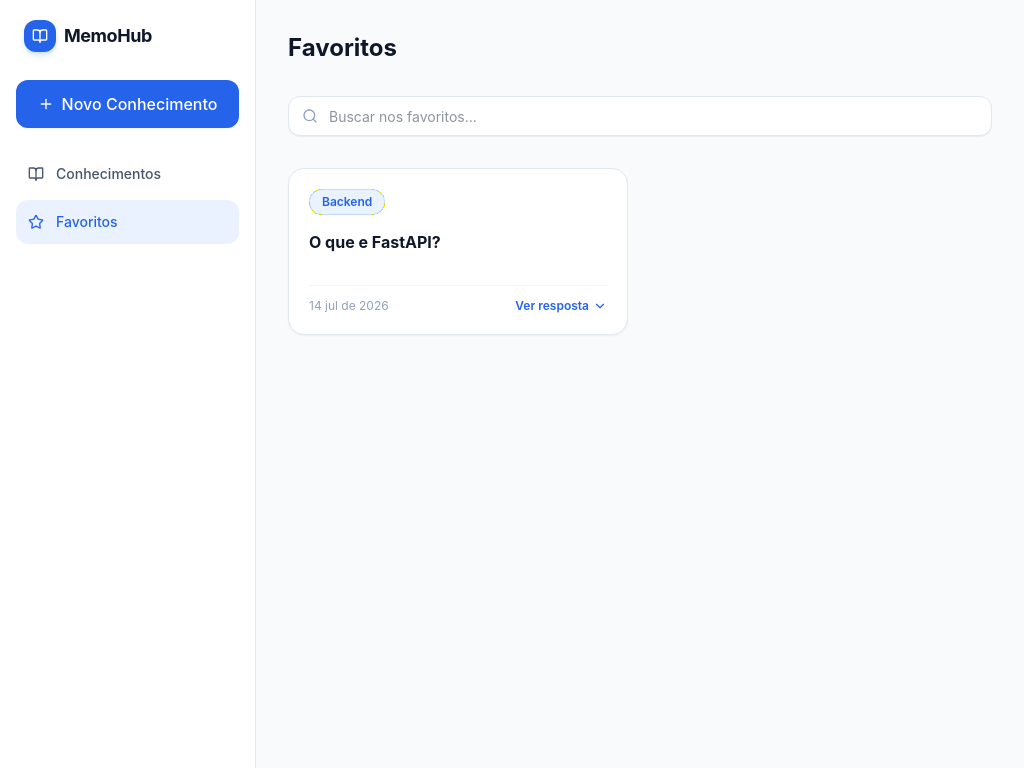
Scenario: FavoritesListView.vue (Integration) › deve injetar o registro criado na lista de favoritos apenas se for marcado como favorito na modal
Click the button "Novo Conhecimento": x=128, y=104 [16, 80, 239, 128]
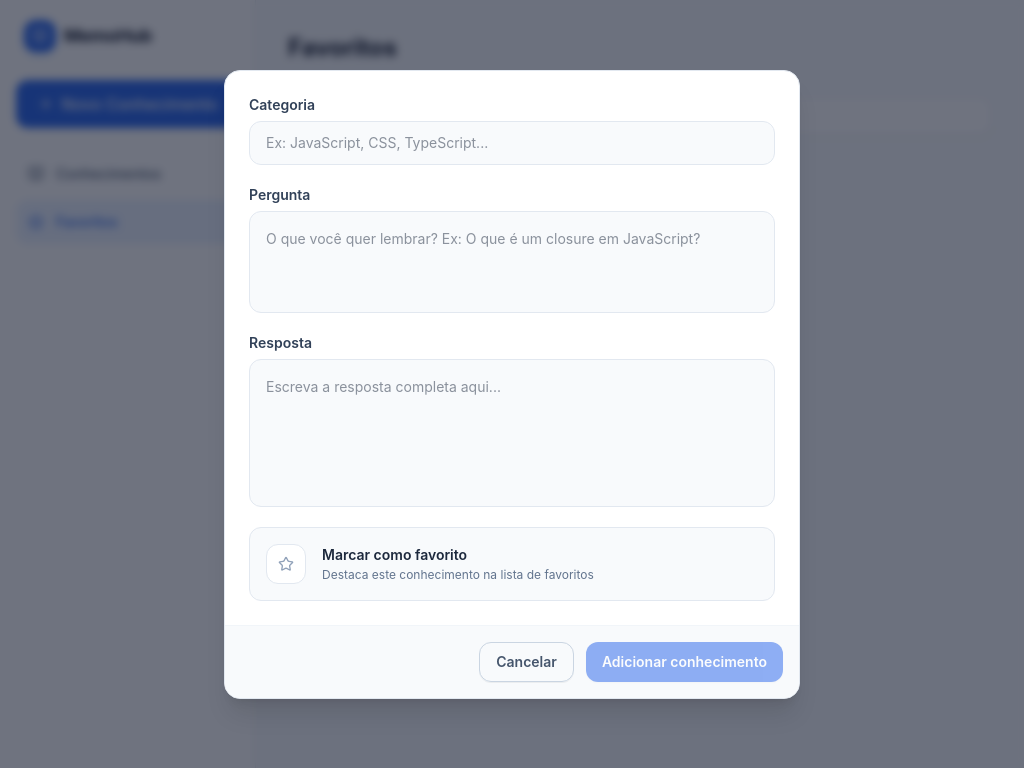
In the field with placeholder "Ex: JavaScript, CSS, TypeScript...": x=512, y=142 [249, 120, 775, 164], type "Database"
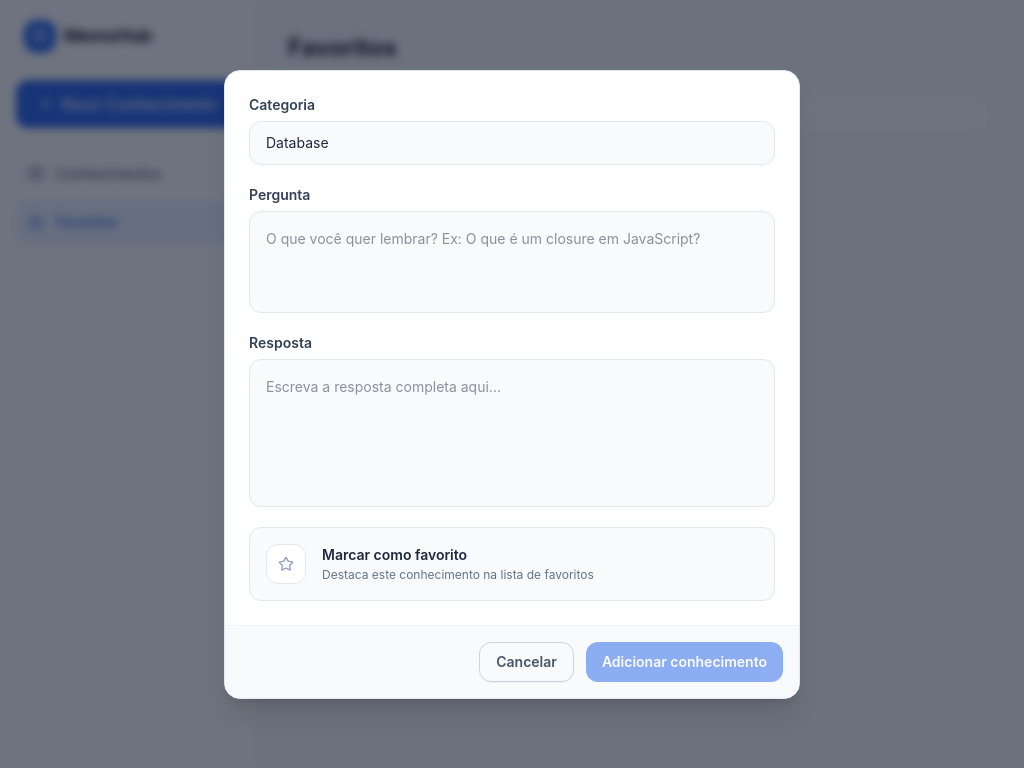
Replace the text in the 1st text box with "O que e SQLModel?": x=512, y=262 [249, 210, 775, 313]
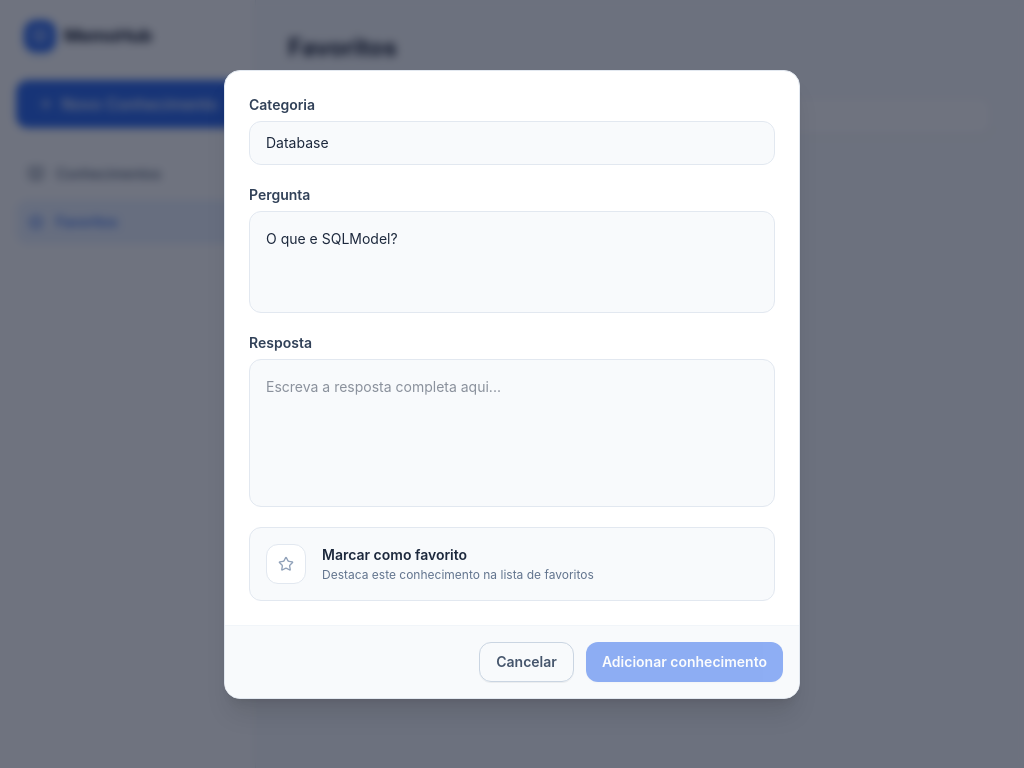
In the text box with placeholder "Escreva a resposta completa aqui...": x=512, y=433 [249, 359, 775, 507], type "Uma biblioteca ORM assincrona."
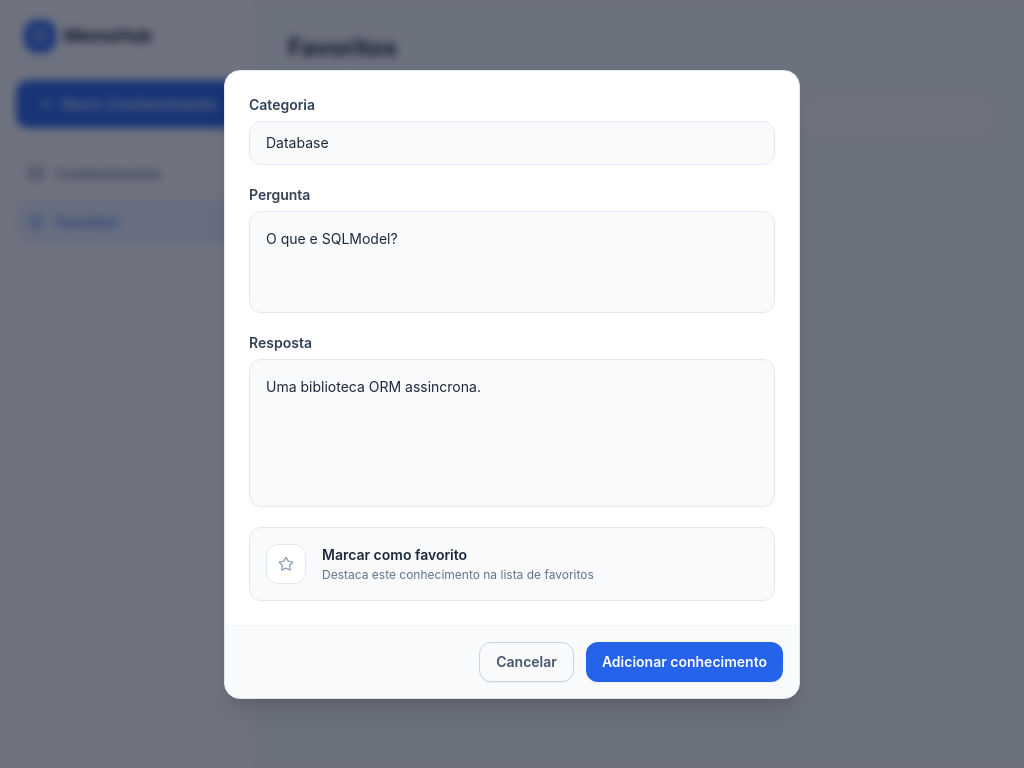
Click the element with class "select-none" that starts with "Marcar como favorito": x=512, y=564 [249, 526, 775, 600]
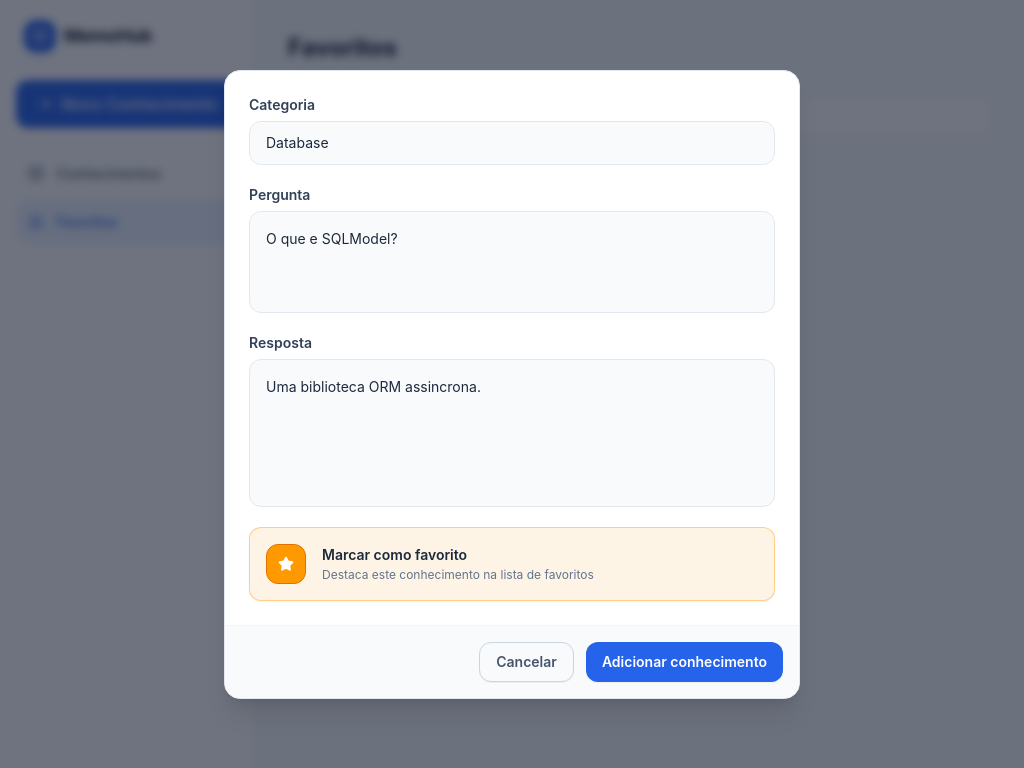
Click the button "Adicionar conhecimento": x=684, y=662 [586, 642, 783, 682]
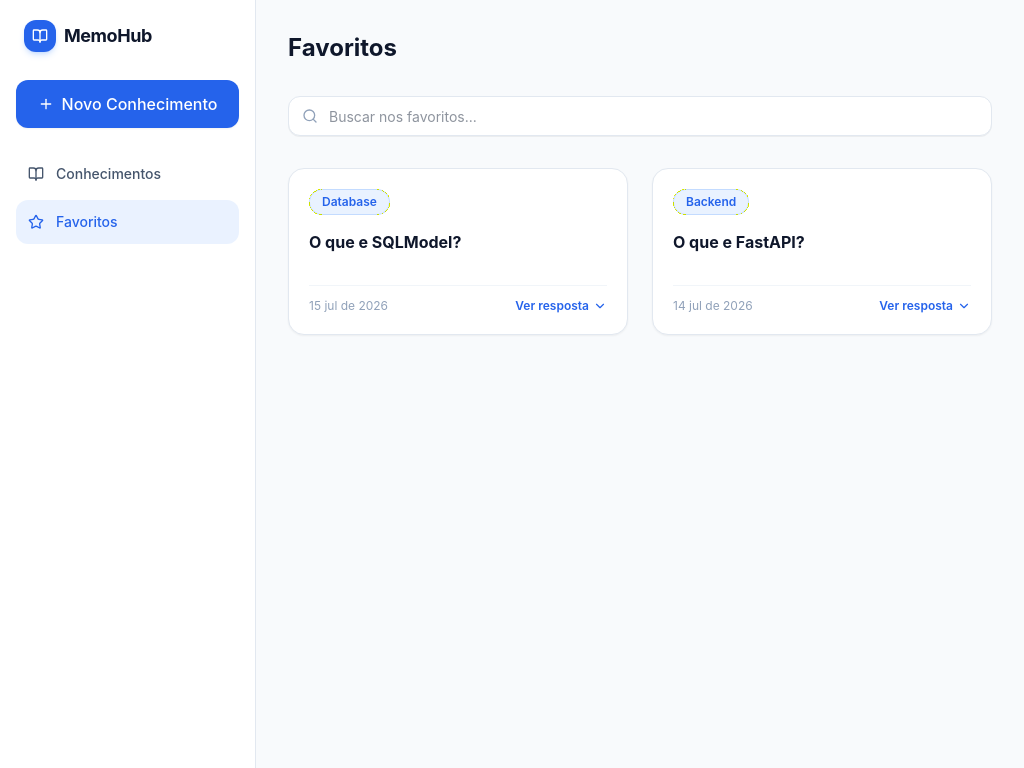
Expected: the text "O que e SQLModel?" is shown, [309, 232, 461, 252]
